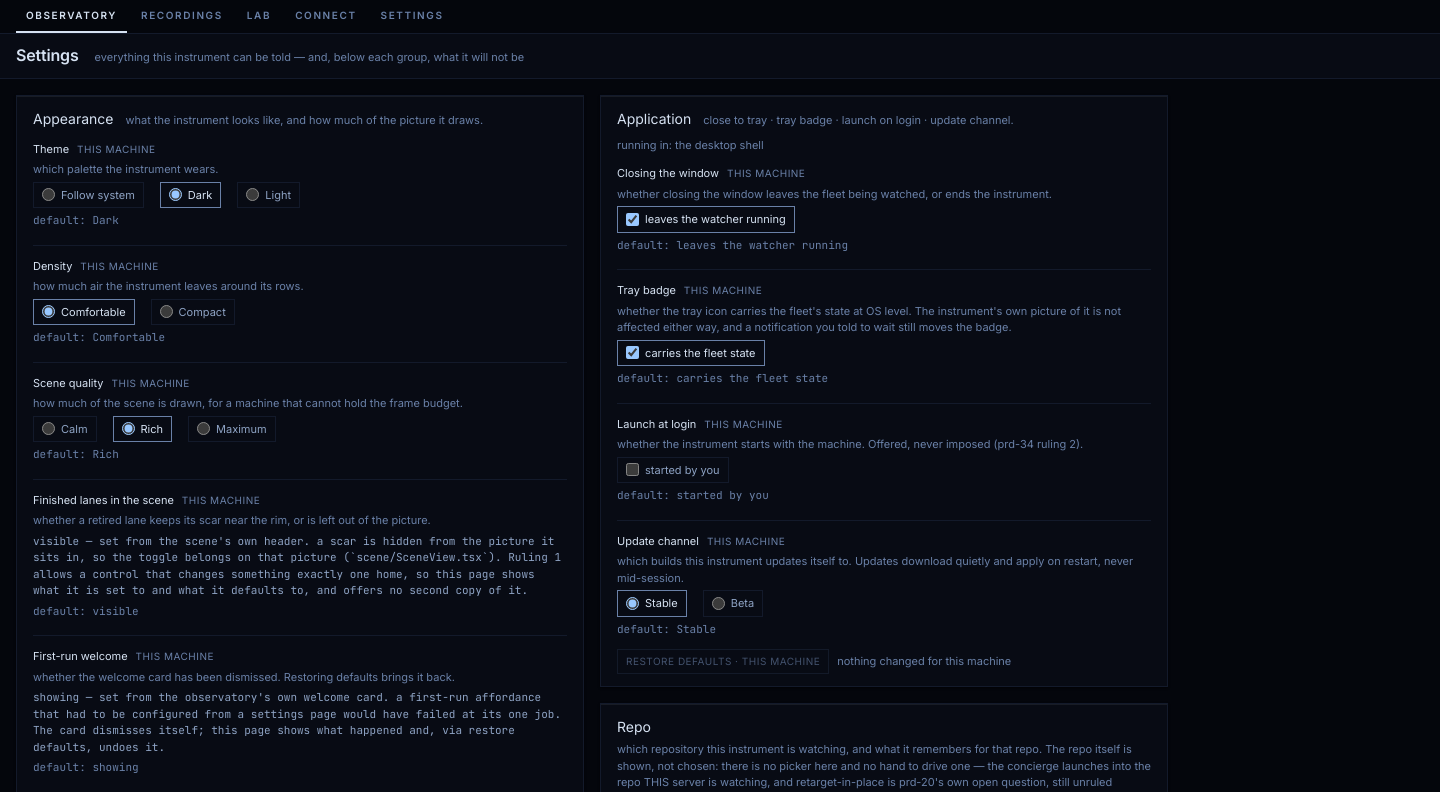
a hosted group, once a shell announces itself (#574) › keeps the chosen value and says so when a flag fails to persist
Click the checkbox with test id "pref-application.launchAtLogin-toggle": point(632, 470) [626,463,639,476]
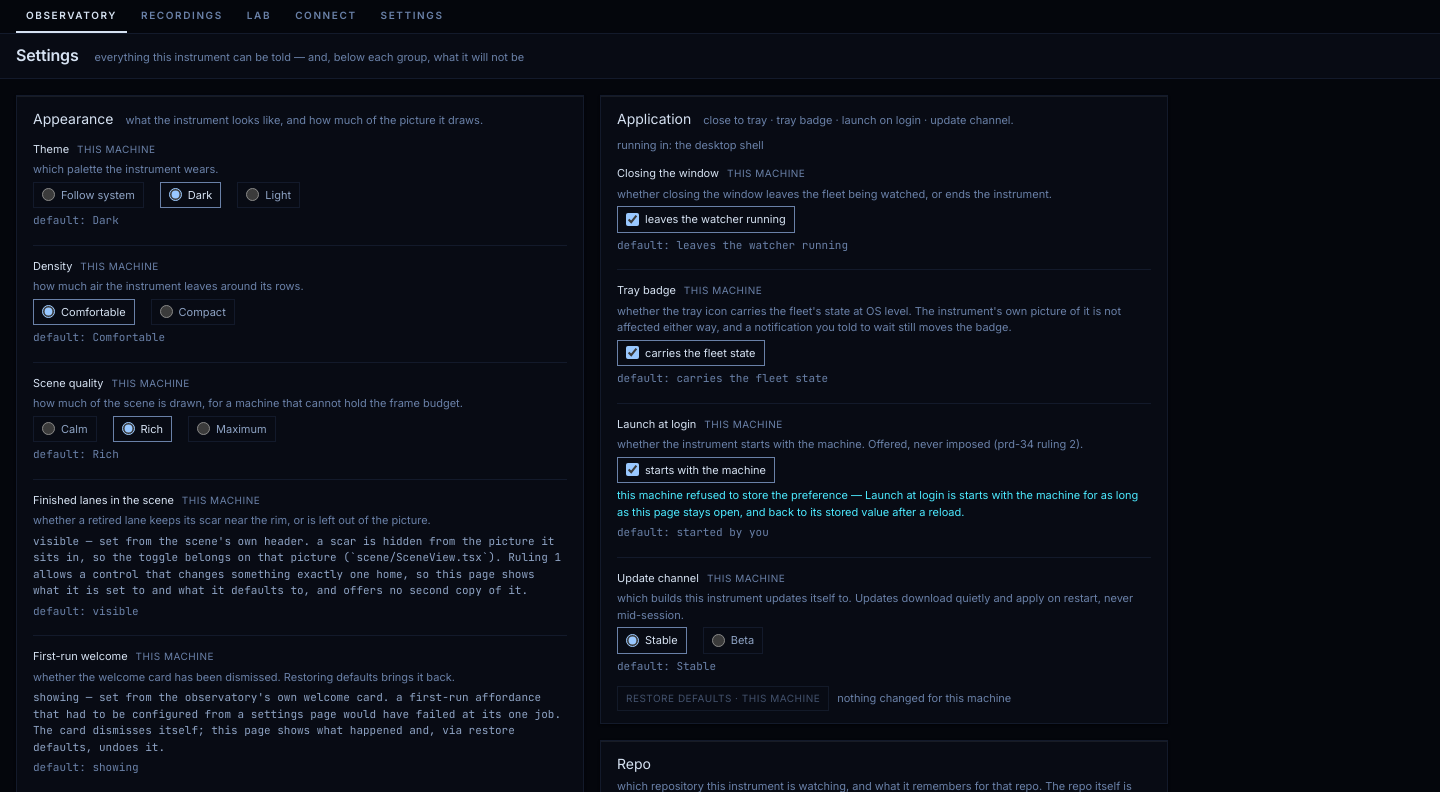
Check: the checkbox with test id "pref-application.launchAtLogin-toggle" is checked, box [626,463,639,476]
Check: the text with test id "pref-application.launchAtLogin-error" shows "refused to store", box [617,488,865,502]
